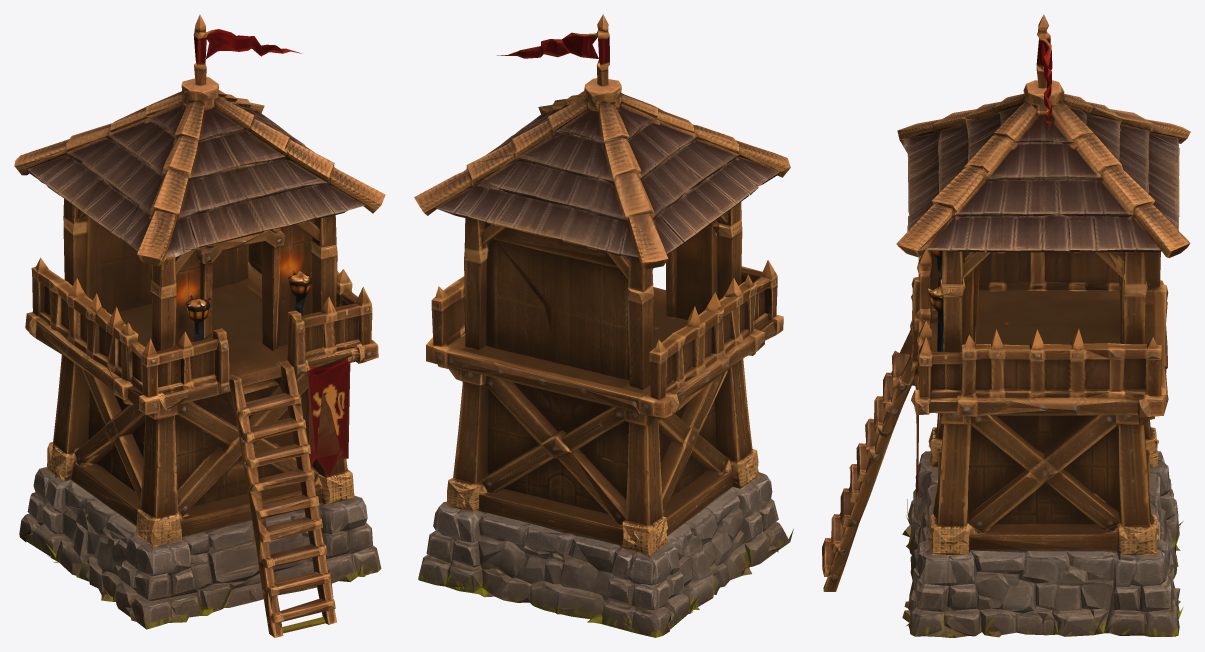
The model's file is ArcherTower.glb.
3 views of the same model, side by side, from view 1: azimuth 30°, elevation 25°; view 2: azimuth 150°, elevation 25°; view 3: azimuth 270°, elevation 25° (orthographic). The views are drawn at different scales.
Parts seen in each view (by area): view 1: Archertower; view 2: Archertower; view 3: Archertower.
Boxes of the visible parts, x1,y1,x2,y2 form: Archertower: (14,14,385,637); Archertower: (414,14,793,637); Archertower: (822,14,1190,637).
Bounding box in the file's own units: 0.9249 × 1.9 × 1.13.
Materials: 1 (1 with a texture image).
